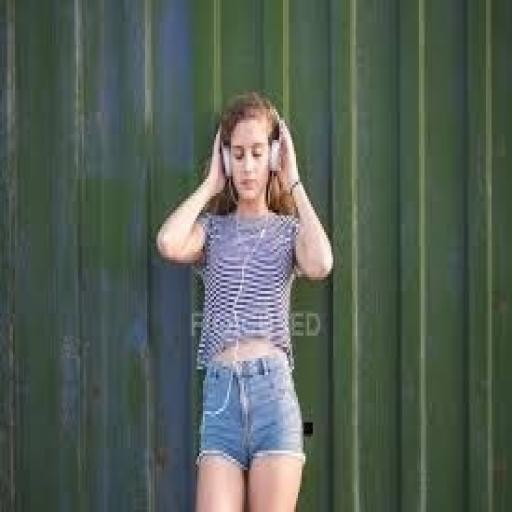listening_to_music: (155, 90, 337, 509)
